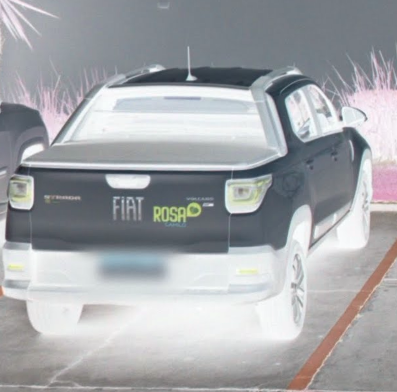car: (3, 66, 373, 340)
